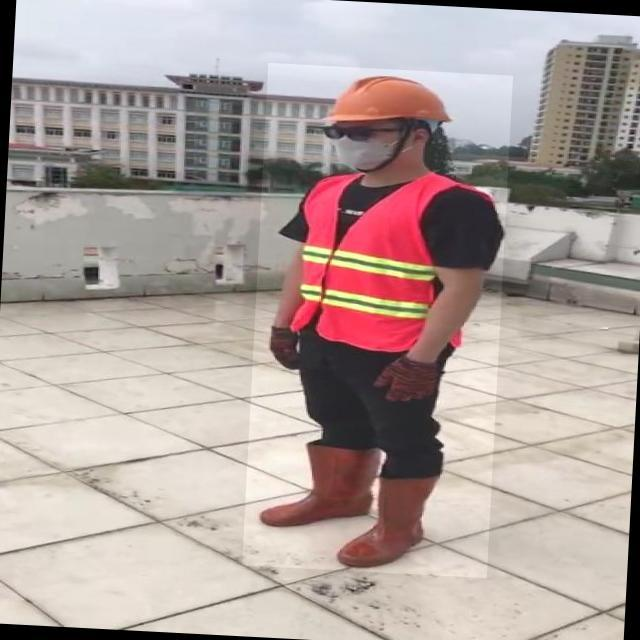Gloves: (367, 355, 439, 404), (266, 324, 302, 372)
Helmet: (321, 68, 458, 133)
Human: (242, 63, 513, 578)
Safety Boot: (260, 441, 378, 533), (337, 475, 440, 572)
Safety Vest: (294, 168, 473, 355)
